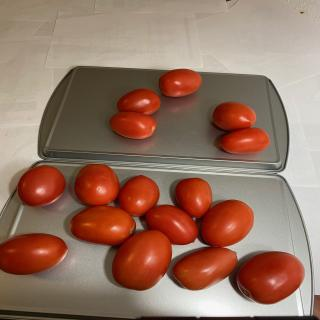Tomato: (236, 251, 305, 305), (111, 230, 172, 290), (0, 233, 68, 275), (172, 247, 238, 290), (70, 205, 136, 246), (201, 199, 254, 247), (146, 204, 198, 245), (17, 165, 66, 207), (74, 164, 120, 206), (118, 174, 160, 217), (175, 177, 212, 218), (212, 101, 257, 131), (158, 68, 202, 98), (220, 128, 270, 154), (109, 112, 157, 139), (117, 88, 161, 115)
